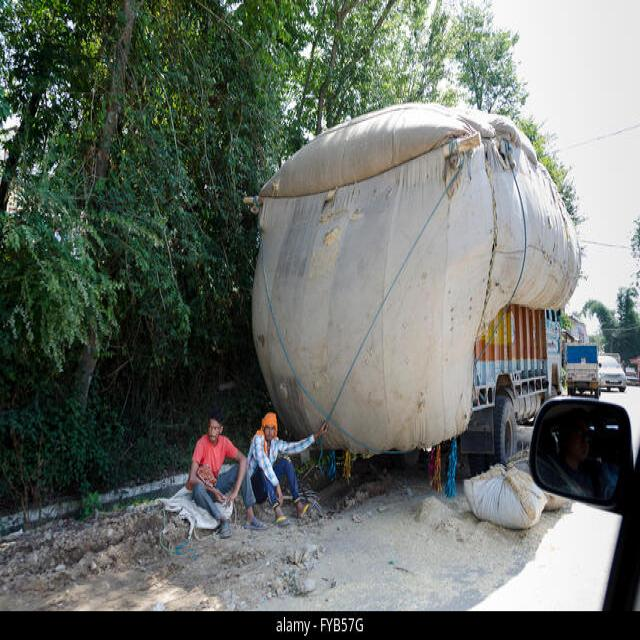normal_truck: (461, 305, 559, 474), (567, 344, 599, 397)
overloaded_truck: (252, 105, 580, 451)
